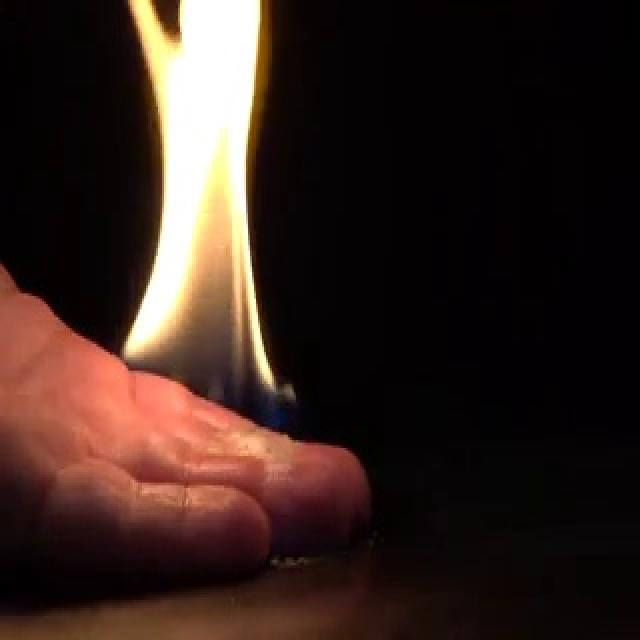fire: (186, 166, 264, 430)
